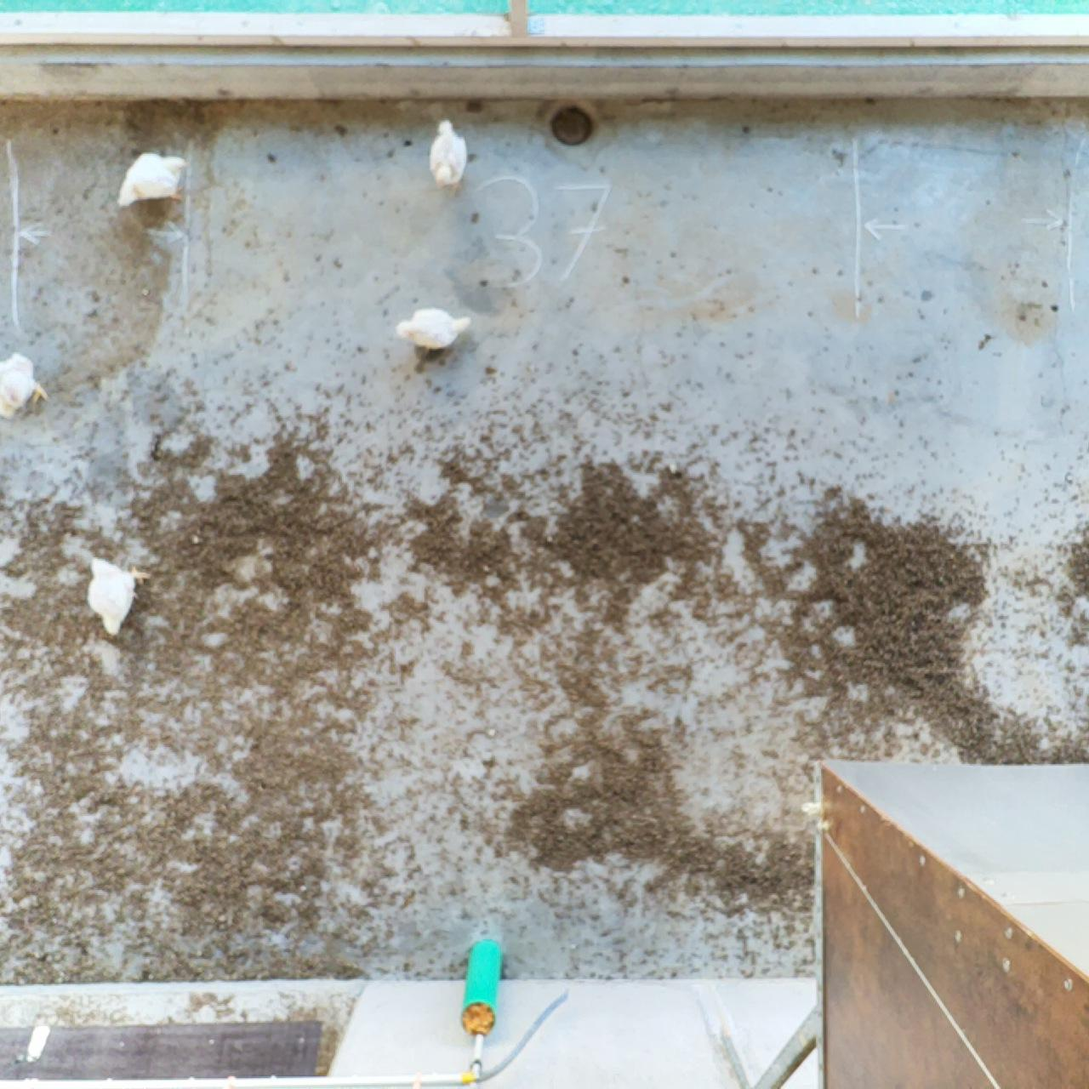chicken: (82, 554, 153, 640), (111, 144, 188, 212), (394, 300, 473, 357), (0, 346, 52, 423), (426, 111, 471, 198)
